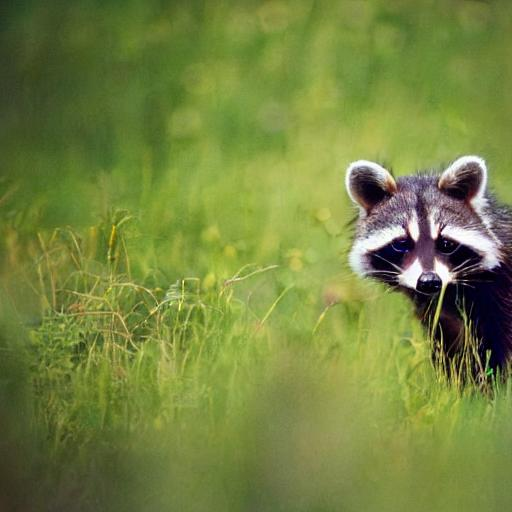raccoon: (336, 149, 512, 387)
